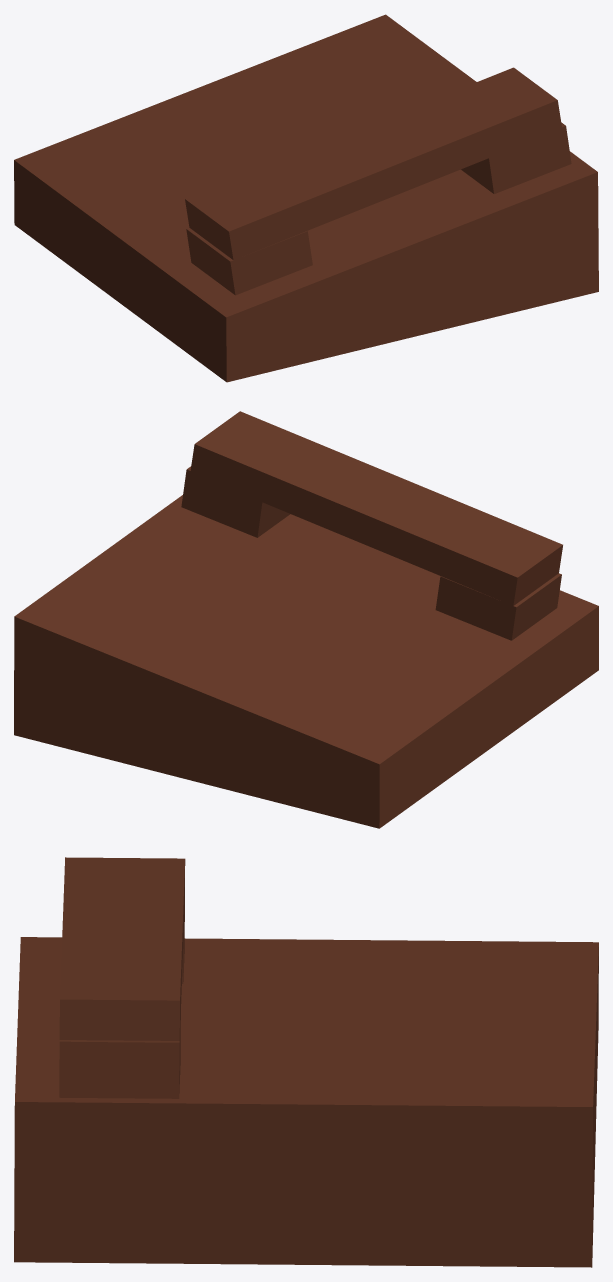
The model's file is Telephone.fbx.
The picture shows the model from 3 angles, top to bottom: view 1: azimuth 30°, elevation 25°; view 2: azimuth 150°, elevation 25°; view 3: azimuth 270°, elevation 25°; orthographic projection. The views are drawn at different scales.
Visible parts, largest first — view 1: Telephone; view 2: Telephone; view 3: Telephone.
Boxes of the visible parts, x1,y1,x2,y2 form: Telephone: (14,14,598,382); Telephone: (14,411,598,828); Telephone: (14,857,598,1267).
Bounding box in the file's own units: 0.9618 × 0.464 × 0.9744.
